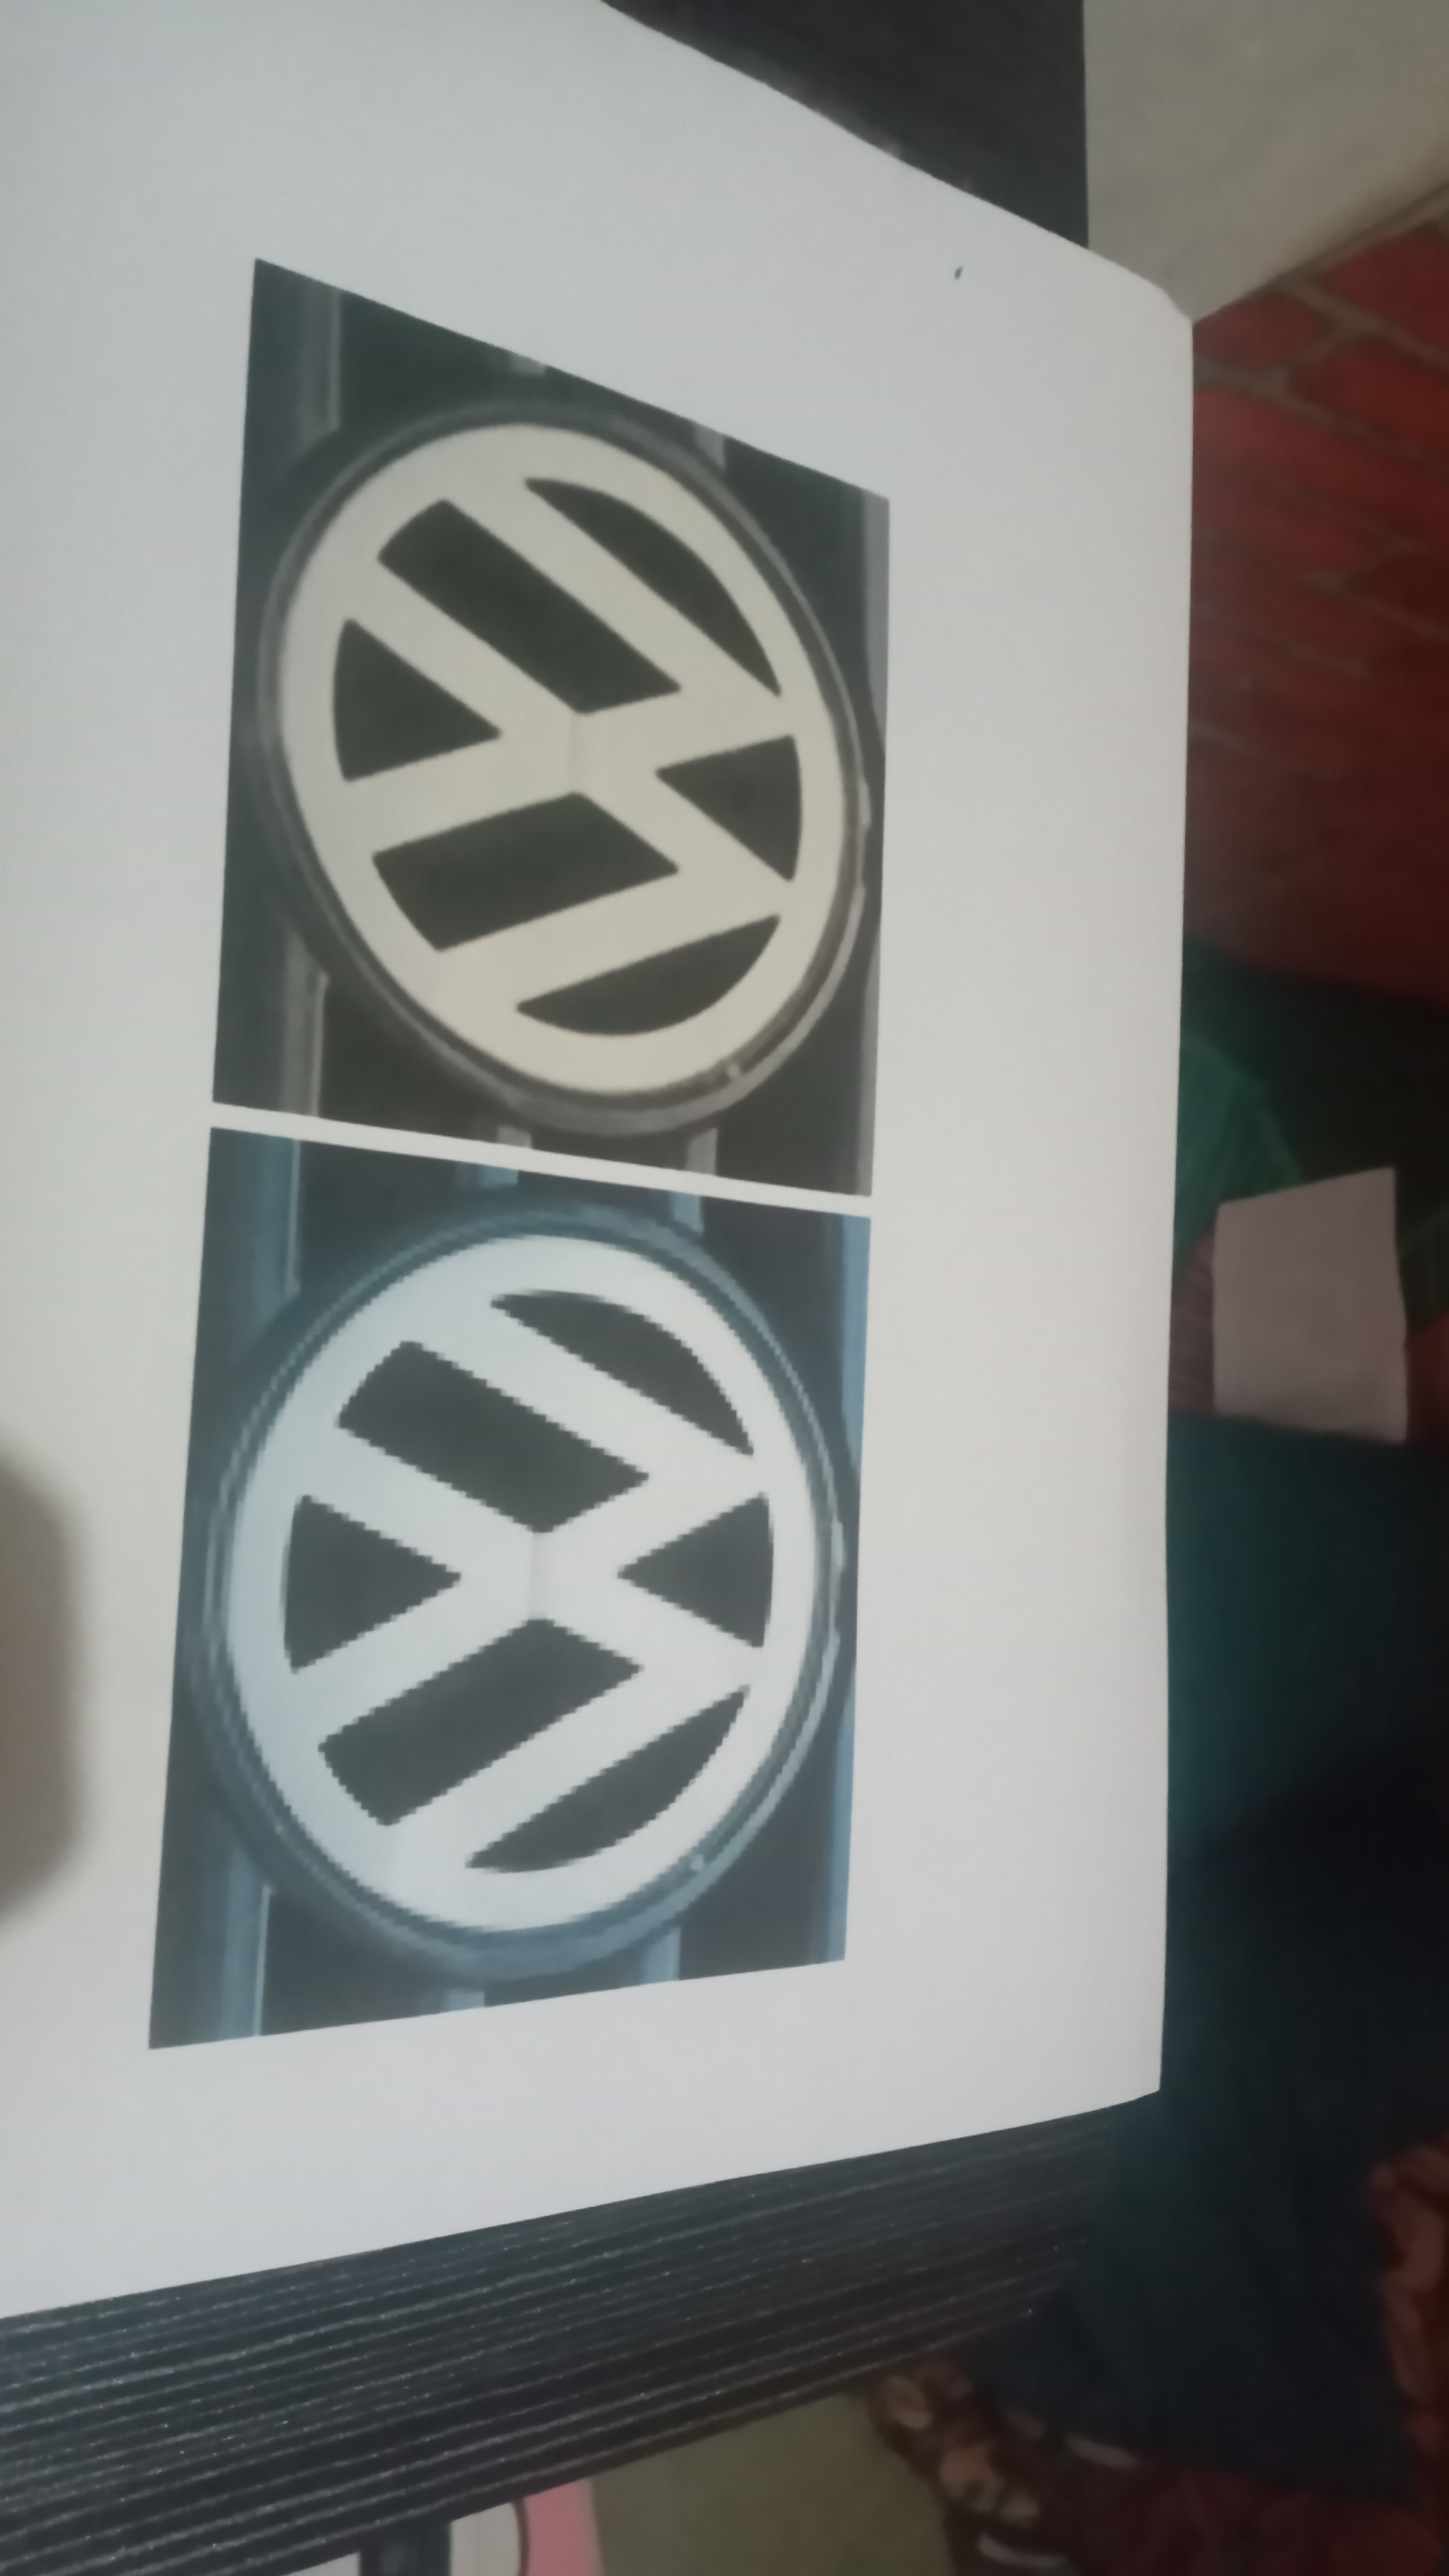Volkswagen: (249, 370, 872, 1177), (287, 1203, 842, 1946)
